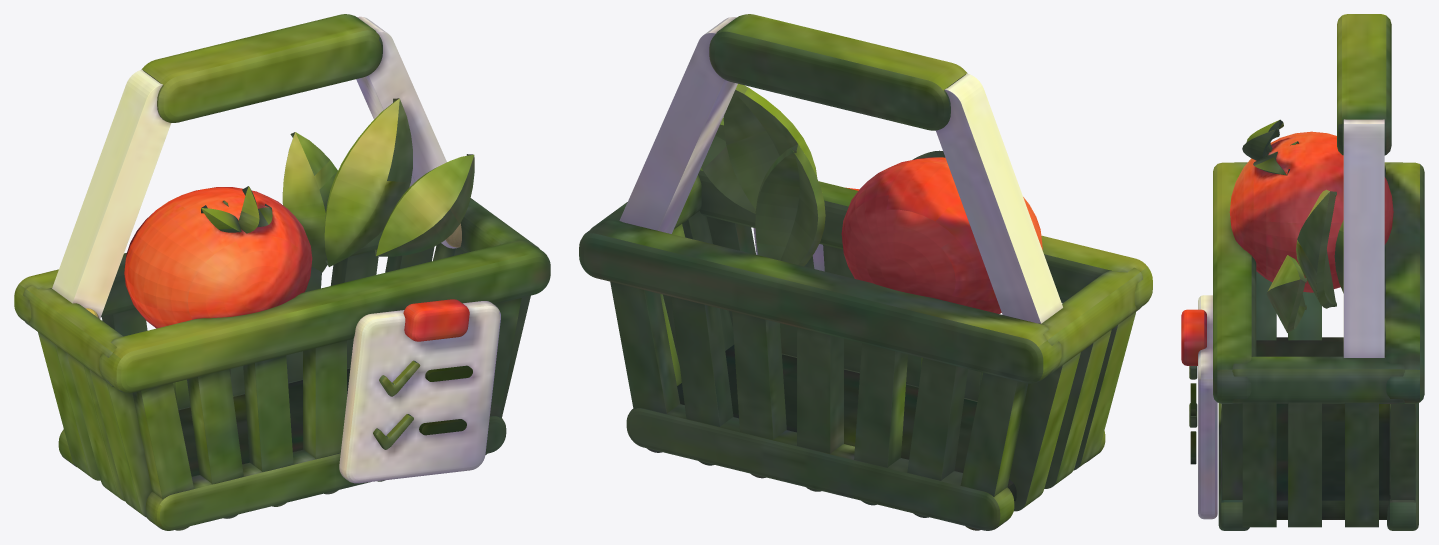
File: kitchen.glb
3 renders of one model, left to right at view 1: azimuth 30°, elevation 25°; view 2: azimuth 150°, elevation 25°; view 3: azimuth 270°, elevation 25°, orthographic. The views are drawn at different scales.
Parts seen in each view (by area): view 1: Basket floor; view 2: Basket floor; view 3: Basket floor.
Part boxes in pixels (x1,y1,x2,y2): Basket floor: [14, 14, 550, 530]; Basket floor: [579, 14, 1152, 530]; Basket floor: [1181, 14, 1424, 530].
Size of the model in its own units: 2.19 by 1.91 by 1.07.
1 material, 1 textured.
